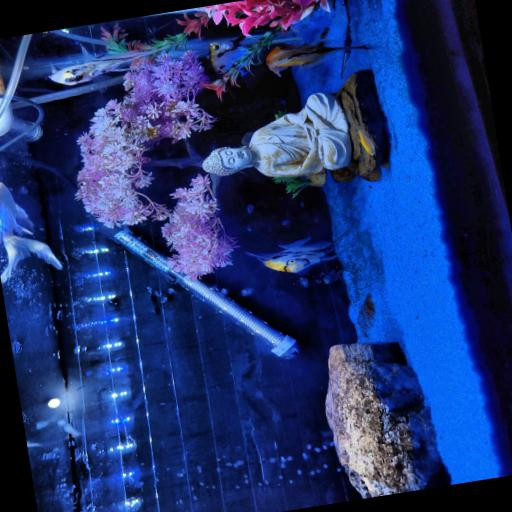Fish: (0, 182, 62, 282), (247, 227, 351, 272), (267, 38, 369, 75), (50, 49, 153, 84), (209, 37, 247, 72), (356, 125, 375, 154), (321, 26, 329, 38), (300, 276, 308, 286)
